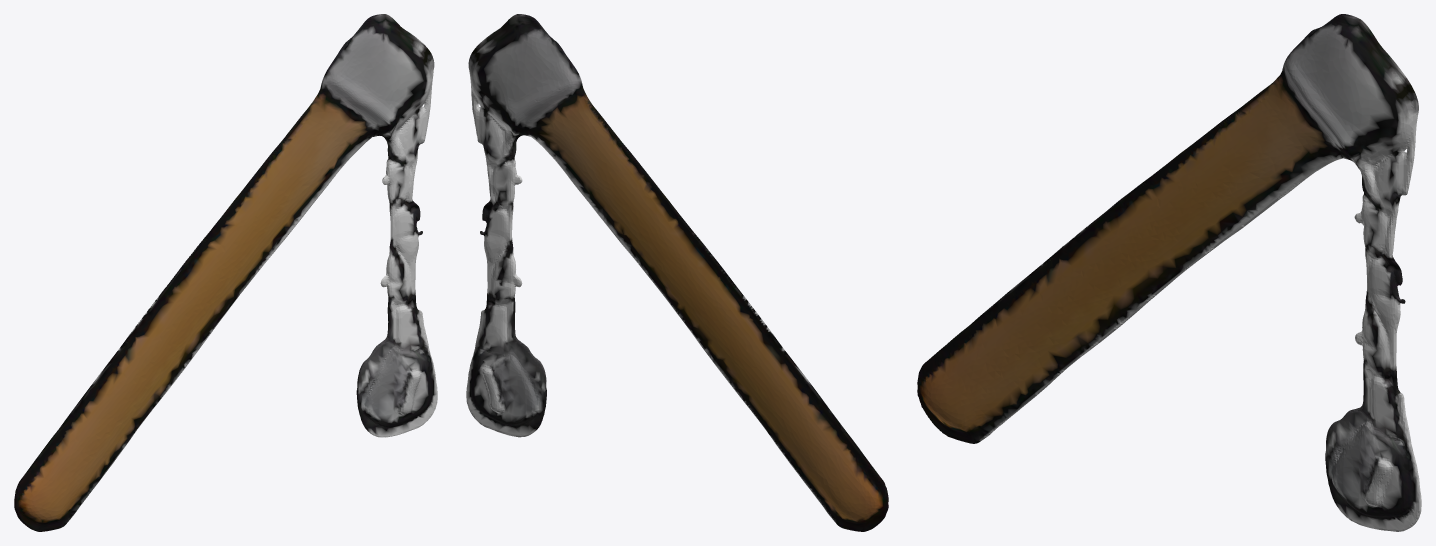
The model's file is mornstar.glb.
3 renders of one model, left to right at view 1: azimuth 30°, elevation 25°; view 2: azimuth 150°, elevation 25°; view 3: azimuth 330°, elevation 25°, orthographic. The views are drawn at different scales.
Parts seen in each view (by area): view 1: geometry_0; view 2: geometry_0; view 3: geometry_0.
Boxes of the visible parts, box(x1,y1,x2,y2) form: geometry_0: box(14, 14, 437, 531); geometry_0: box(466, 14, 888, 531); geometry_0: box(917, 14, 1421, 531).
Size of the model in its own units: 0.8862 by 0.875 by 0.0643.
